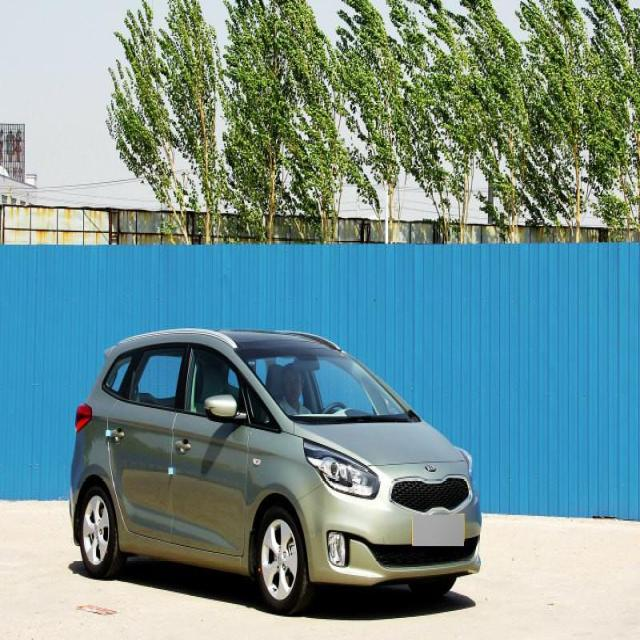back_right_side_light: (71, 393, 101, 448)
door: (101, 338, 192, 538)
front_bumper: (297, 479, 488, 591)
front_glass: (233, 334, 426, 432)
front_right_side_door: (164, 326, 255, 572)
front_right_side_light: (299, 435, 386, 511)
front_right_side_mirror: (202, 388, 252, 432)
wheel: (251, 495, 314, 619), (74, 484, 130, 580)
